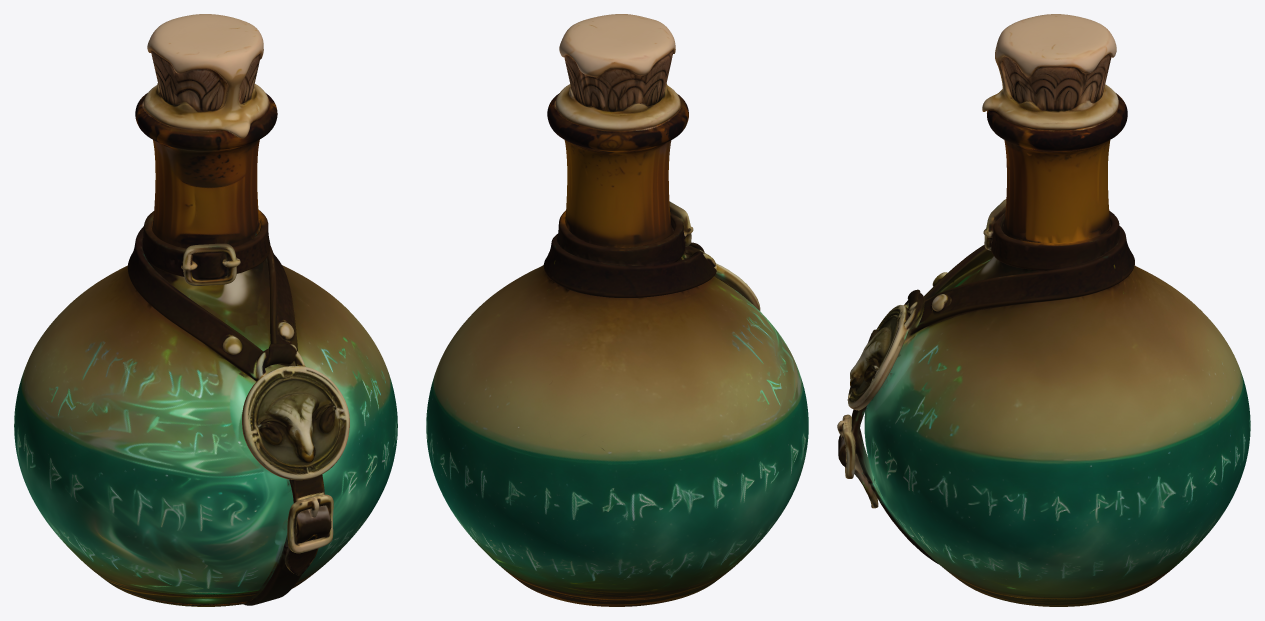
File: pixellabs-potion-bottle-3421.high.glb
3 renders of one model, left to right at view 1: azimuth 30°, elevation 25°; view 2: azimuth 150°, elevation 25°; view 3: azimuth 270°, elevation 25°, orthographic.
Parts seen in each view (by area): view 1: material; view 2: material; view 3: material.
Boxes of the visible parts, x1,y1,x2,y2 form: material: (14, 14, 397, 606); material: (426, 14, 808, 606); material: (837, 14, 1250, 606).
Bounding box in the file's own units: 0.7341 × 1.13 × 0.7917.
1 material, 1 textured.
